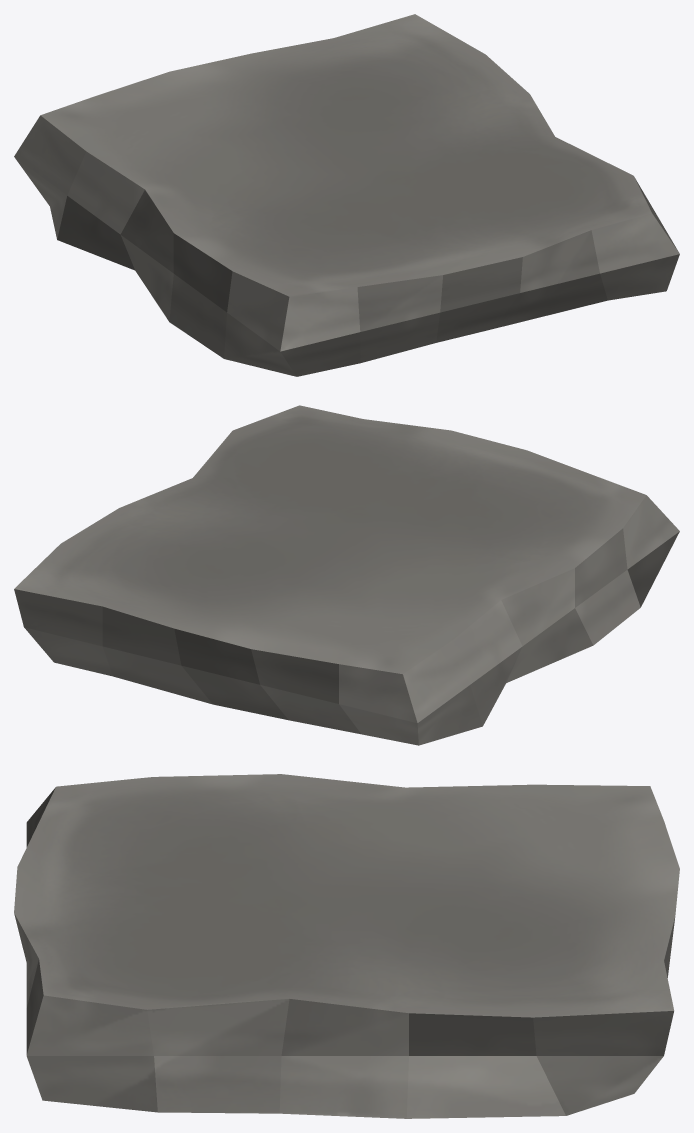
File: floating_path_1.fbx
The picture shows the model from 3 angles, top to bottom: view 1: azimuth 30°, elevation 25°; view 2: azimuth 150°, elevation 25°; view 3: azimuth 270°, elevation 25°; orthographic projection. The views are drawn at different scales.
Visible parts, largest first — view 1: floating_path_1; view 2: floating_path_1; view 3: floating_path_1.
Boxes of the visible parts, x1=… form: floating_path_1: x1=14, y1=14, x2=679, y2=376; floating_path_1: x1=14, y1=405, x2=679, y2=745; floating_path_1: x1=14, y1=774, x2=679, y2=1118.
Size of the model in its own units: 276 by 49.06 by 305.
